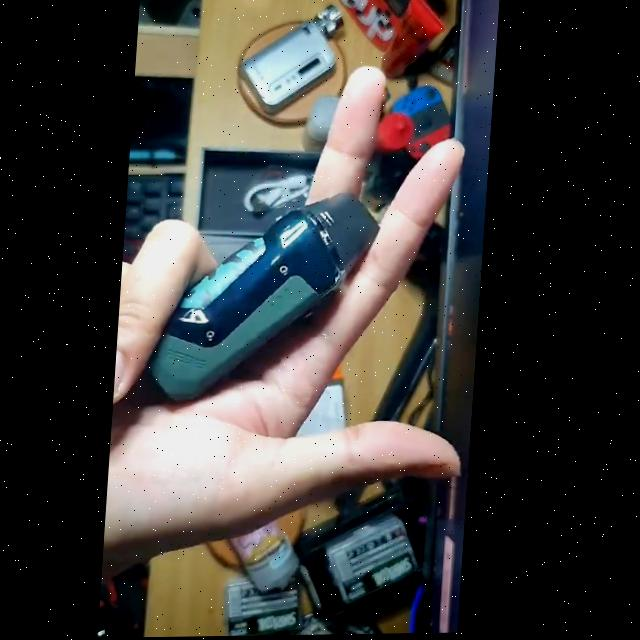vape: (149, 193, 385, 409), (239, 6, 346, 113)
